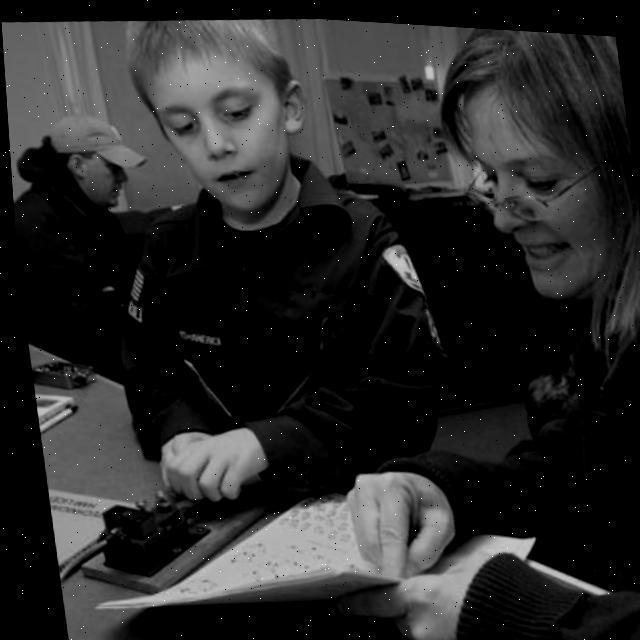face: (464, 92, 627, 309), (147, 44, 297, 215)
